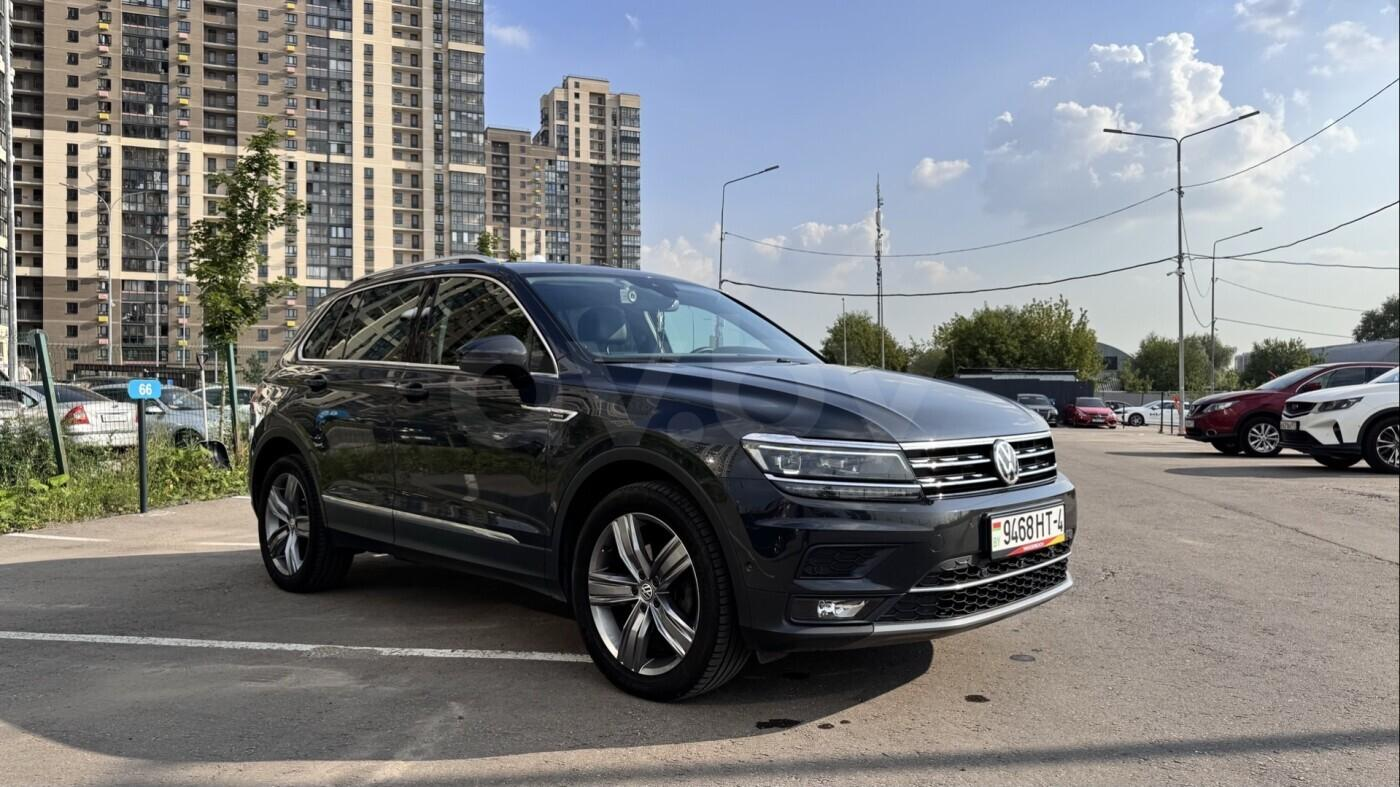Tiguan_2016-2021: (233, 256, 1080, 705)
